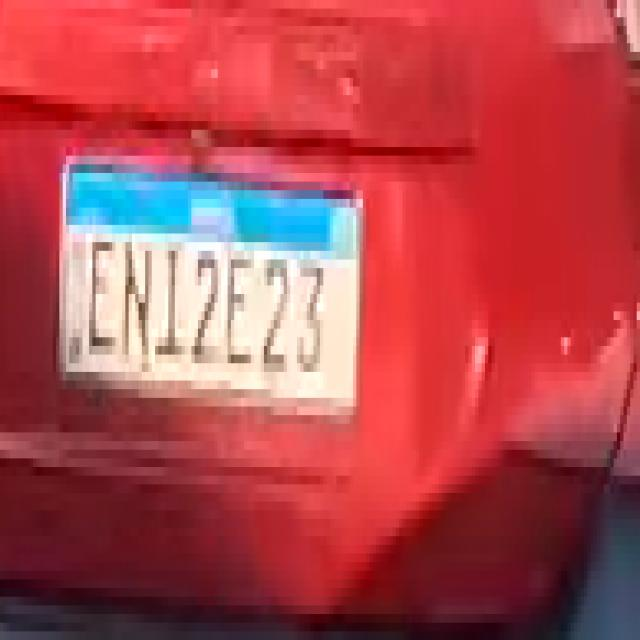Placa_mercosul_carro: (56, 150, 364, 415)
